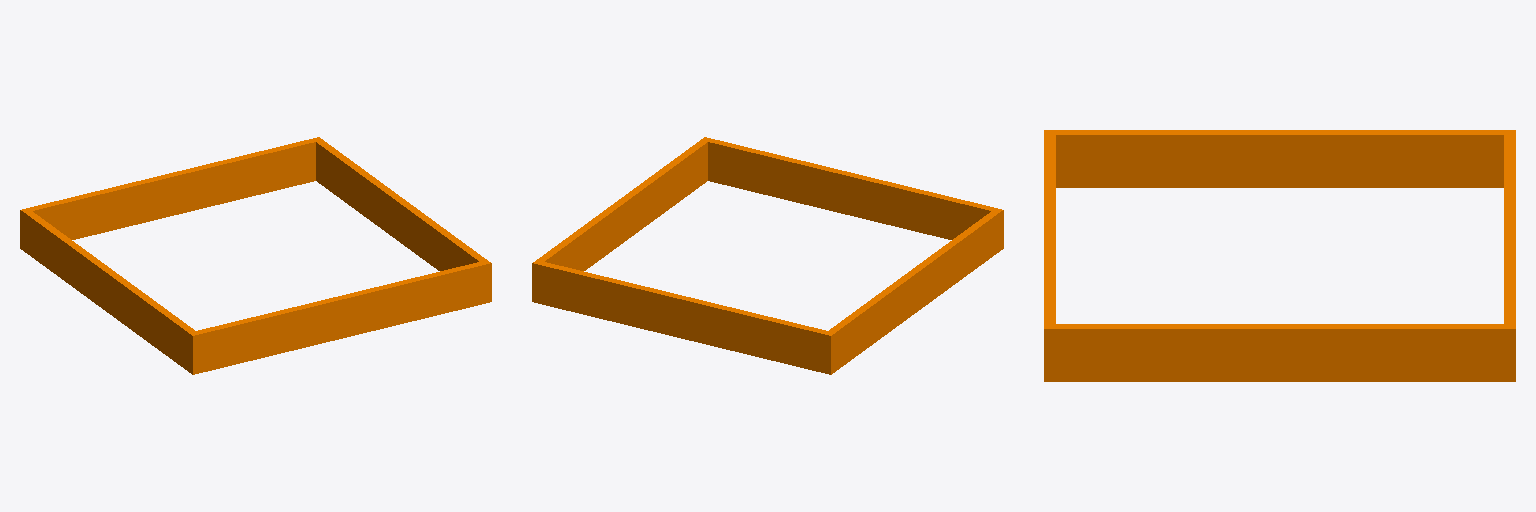
The robot description file, URDF, robot "home":
<?xml version="1.0"?>
<robot name="home" xmlns:xacro="http://www.ros.org/wiki/xacro">
  <!--
    Hollow square ring (open inside)
    Outer size: 8.0 x 8.0 m
    Wall thickness: 0.20 m
    Height: 1.0 m

    Implementation: single link with four box visuals/collisions positioned
    to form the ring. Visuals use a semi-transparent orange color.
  -->

  <link name="hollow_ring_link">
    <!-- simple inertial for the whole assembly (approximation) -->
    <inertial>
      <origin xyz="0 0 0.5" rpy="0 0 0"/>
      <mass value="50.0"/>
      <!-- inertia of a 8 x 8 x 1 box approximated for the composite -->
      <inertia ixx="283.3333" ixy="0.0" ixz="0.0" iyy="283.3333" iyz="0.0" izz="533.3333"/>
    </inertial>

    <!-- FRONT wall (along X axis, located at +y) -->
    <visual>
      <origin xyz="0 3.9 0.5" rpy="0 0 0"/>
      <geometry>
        <box size="8.0 0.2 1.0"/>
      </geometry>
      <material name="orange_trans">
        <color rgba="1 0.55 0 1"/>
      </material>
    </visual>
    <collision>
      <origin xyz="0 3.9 0.5" rpy="0 0 0"/>
      <geometry>
        <box size="8.0 0.2 1.0"/>
      </geometry>
    </collision>

    <!-- BACK wall (along X axis, located at -y) -->
    <visual>
      <origin xyz="0 -3.9 0.5" rpy="0 0 0"/>
      <geometry>
        <box size="8.0 0.2 1.0"/>
      </geometry>
      <material name="orange_trans"/>
    </visual>
    <collision>
      <origin xyz="0 -3.9 0.5" rpy="0 0 0"/>
      <geometry>
        <box size="8.0 0.2 1.0"/>
      </geometry>
    </collision>

    <!-- LEFT wall (along Y axis, located at -x) -->
    <visual>
      <origin xyz="-3.9 0 0.5" rpy="0 0 0"/>
      <geometry>
        <box size="0.2 8.0 1.0"/>
      </geometry>
      <material name="orange_trans"/>
    </visual>
    <collision>
      <origin xyz="-3.9 0 0.5" rpy="0 0 0"/>
      <geometry>
        <box size="0.2 8.0 1.0"/>
      </geometry>
    </collision>

    <!-- RIGHT wall (along Y axis, located at +x) -->
    <visual>
      <origin xyz="3.9 0 0.5" rpy="0 0 0"/>
      <geometry>
        <box size="0.2 8.0 1.0"/>
      </geometry>
      <material name="orange_trans"/>
    </visual>
    <collision>
      <origin xyz="3.9 0 0.5" rpy="0 0 0"/>
      <geometry>
        <box size="0.2 8.0 1.0"/>
      </geometry>
    </collision>

  </link>

  <link name ="footprint"/>
  <!-- A fixed joint to attach to world (optional) -->
  <joint name="hollow_ring_fixed_joint" type="fixed">
    <parent link="footprint"/>
    <child link="hollow_ring_link"/>
    <origin xyz="0 0 0" rpy="0 0 0"/>
  </joint>

</robot>

--- Facts derived from the render (not from the file) ---
Views: 3 orthographic renders of the robot side by side, from view 1: azimuth 30°, elevation 25°; view 2: azimuth 150°, elevation 25°; view 3: azimuth 270°, elevation 25°.
Model home with 2 links and 1 joints (1 fixed), rooted at footprint, posed all joints at 0.
Links seen in each view (by area): view 1: hollow_ring_link; view 2: hollow_ring_link; view 3: hollow_ring_link.
Link boxes in pixels (x1=…): hollow_ring_link: x1=20, y1=137, x2=491, y2=374; hollow_ring_link: x1=532, y1=137, x2=1003, y2=374; hollow_ring_link: x1=1044, y1=130, x2=1515, y2=381.
Bounding box of the posed robot: 8 × 8 × 1 m (x, y, z).
Geometry: primitives only (box / cylinder / sphere), no mesh files.
